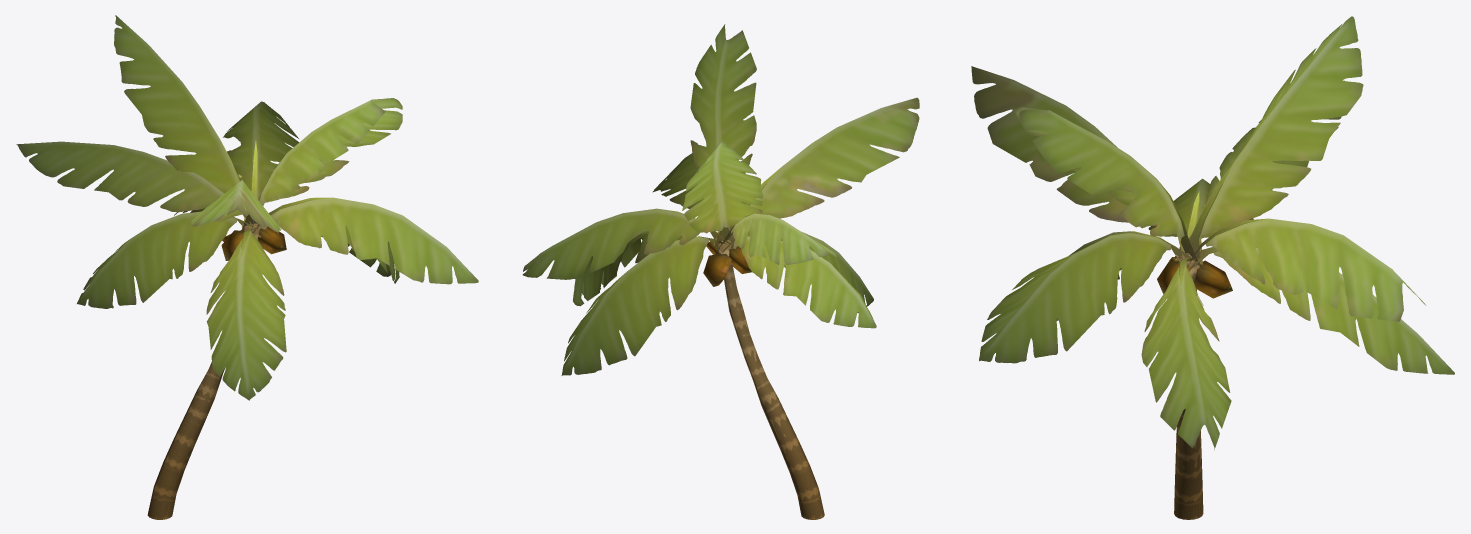
Rendered from coconut palm 03_lod3.obj.
3 renders of one model, left to right at view 1: azimuth 30°, elevation 25°; view 2: azimuth 150°, elevation 25°; view 3: azimuth 270°, elevation 25°, orthographic. The views are drawn at different scales.
Parts seen in each view (by area): view 1: tree; view 2: tree; view 3: tree.
Part boxes in pixels (x1=…): tree: x1=16, y1=15, x2=478, y2=519; tree: x1=522, y1=24, x2=919, y2=519; tree: x1=971, y1=16, x2=1454, y2=519.
Bounding box in the file's own units: 369 × 464 × 407.
